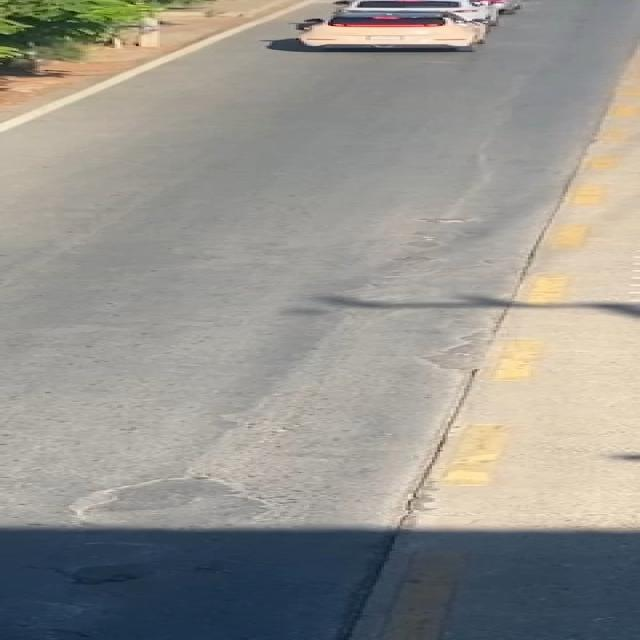car: (278, 9, 503, 54)
